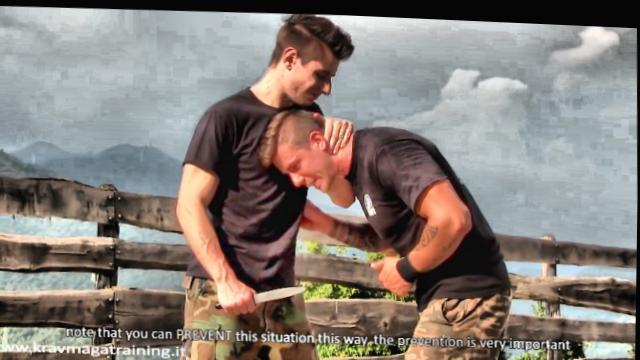knife: (211, 272, 312, 319)
